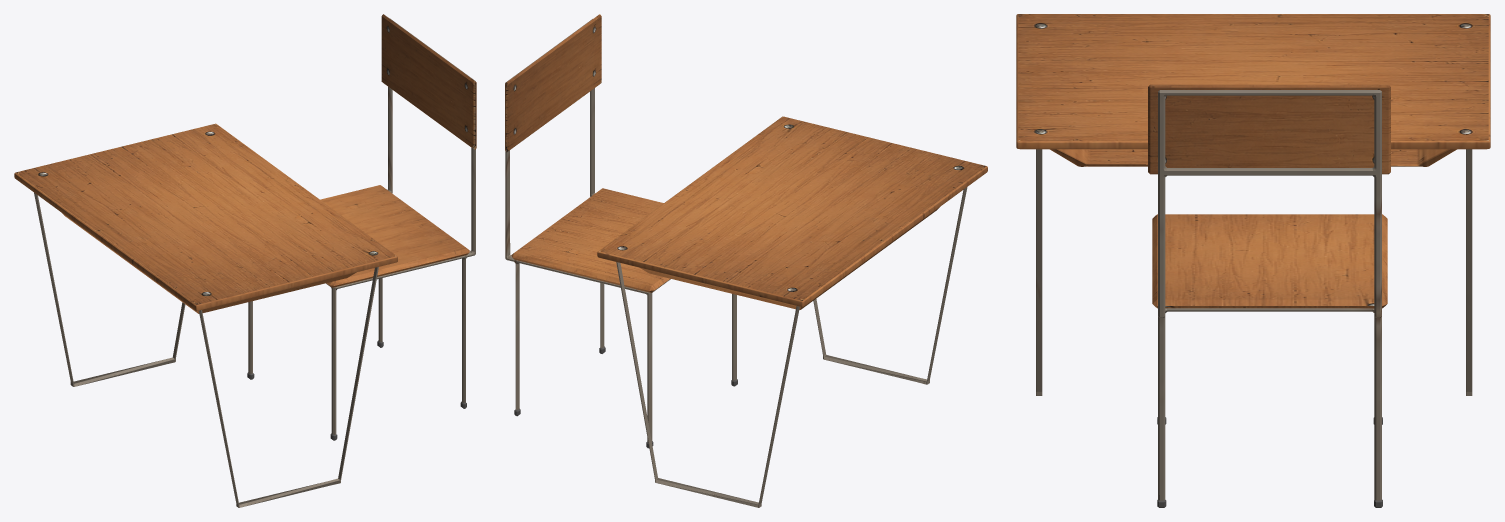
Rendered from anime_-_school_desk.glb.
3 views of the same model, side by side, from view 1: azimuth 30°, elevation 25°; view 2: azimuth 150°, elevation 25°; view 3: azimuth 270°, elevation 25° (orthographic). The views are drawn at different scales.
Visible parts, largest first — view 1: polySurface15, polySurface22; view 2: polySurface15, polySurface22; view 3: polySurface15, polySurface22.
Boxes of the visible parts, x1,y1,x2,y2 form: polySurface15: (14, 123, 397, 507); polySurface22: (247, 14, 476, 440); polySurface15: (597, 116, 987, 507); polySurface22: (505, 14, 737, 448); polySurface15: (1016, 14, 1490, 395); polySurface22: (1148, 84, 1390, 507).
Size of the model in its own units: 0.025 by 0.0234 by 0.0236.
2 materials, 1 textured.
